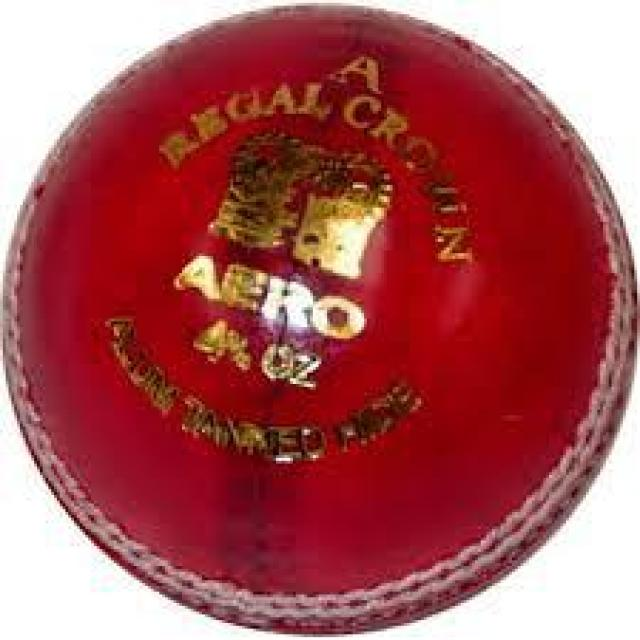ball: (3, 6, 640, 637)
